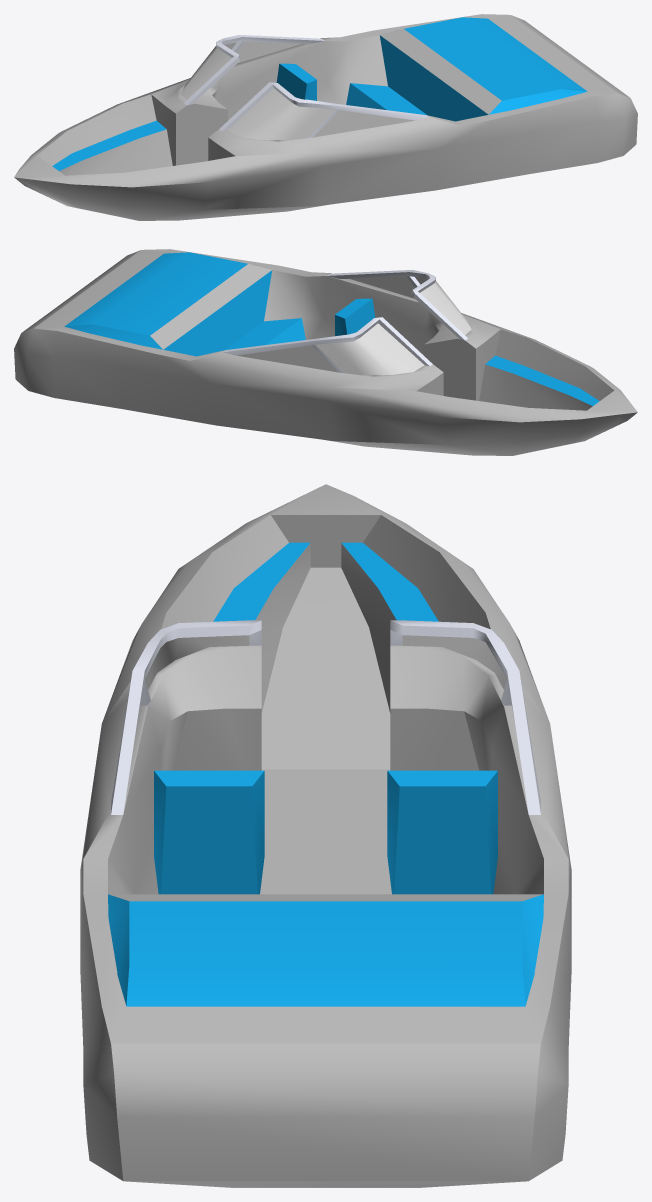
The model's file is bay-speedboat.lod1.glb.
3 views of the same model, one above another, from view 1: azimuth 30°, elevation 25°; view 2: azimuth 150°, elevation 25°; view 3: azimuth 270°, elevation 25° (orthographic). The views are drawn at different scales.
Visible parts, largest first — view 1: 0_Hard Rough Plastic Grey_0, CHROME_Chrome Polished_0; view 2: 0_Hard Rough Plastic Grey_0, CHROME_Chrome Polished_0; view 3: 0_Hard Rough Plastic Grey_0, CHROME_Chrome Polished_0.
Part boxes in pixels (bbox=[...]): 0_Hard Rough Plastic Grey_0: bbox=[14, 14, 637, 220]; CHROME_Chrome Polished_0: bbox=[52, 17, 587, 170]; 0_Hard Rough Plastic Grey_0: bbox=[14, 249, 637, 455]; CHROME_Chrome Polished_0: bbox=[64, 252, 599, 405]; 0_Hard Rough Plastic Grey_0: bbox=[80, 484, 571, 1187]; CHROME_Chrome Polished_0: bbox=[108, 542, 543, 1006].
Size of the model in its own units: 6.5 by 1.62 by 2.42.
